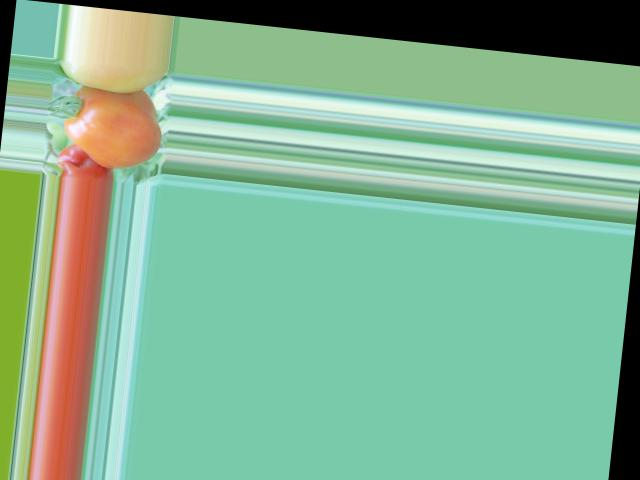tomato: (60, 85, 165, 172)
